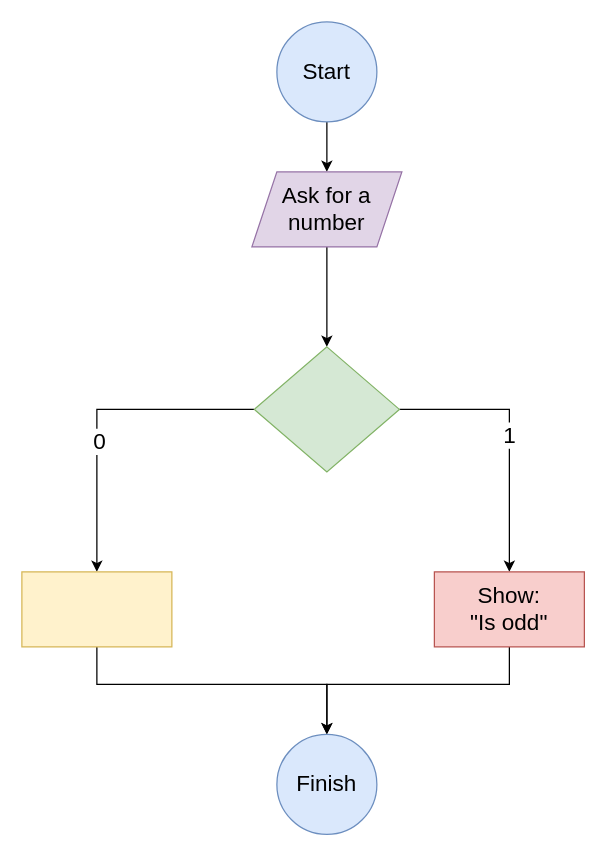
Some shapes in this 606 by 856 pixel diagram are drawn without their labels. Each missing label, with the box of its shape:
number%2: (253, 346, 399, 472)
Show: "is even": (21, 571, 172, 647)
